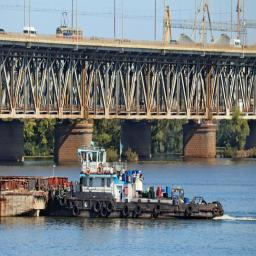tugboat: (48, 140, 225, 222)
